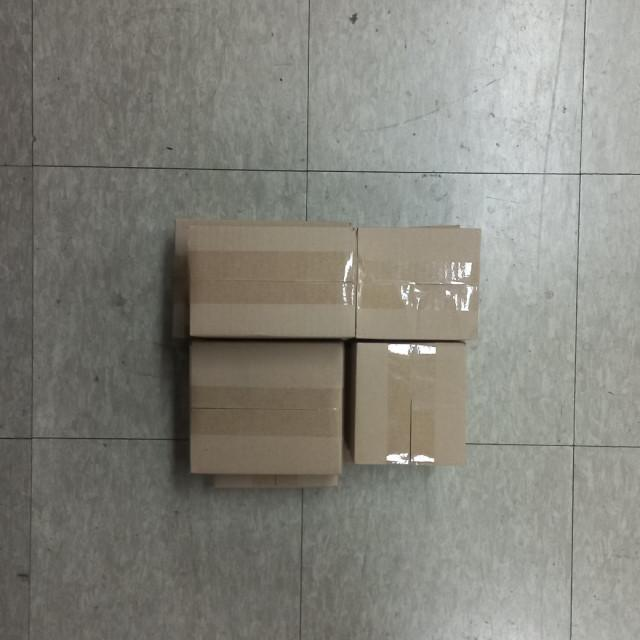box: (185, 333, 348, 479), (180, 224, 360, 342), (348, 336, 472, 472), (354, 225, 483, 342)
